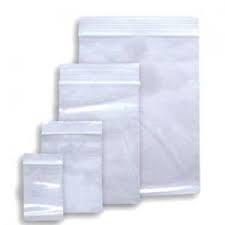Zip plastic bag: (19, 14, 204, 221)
